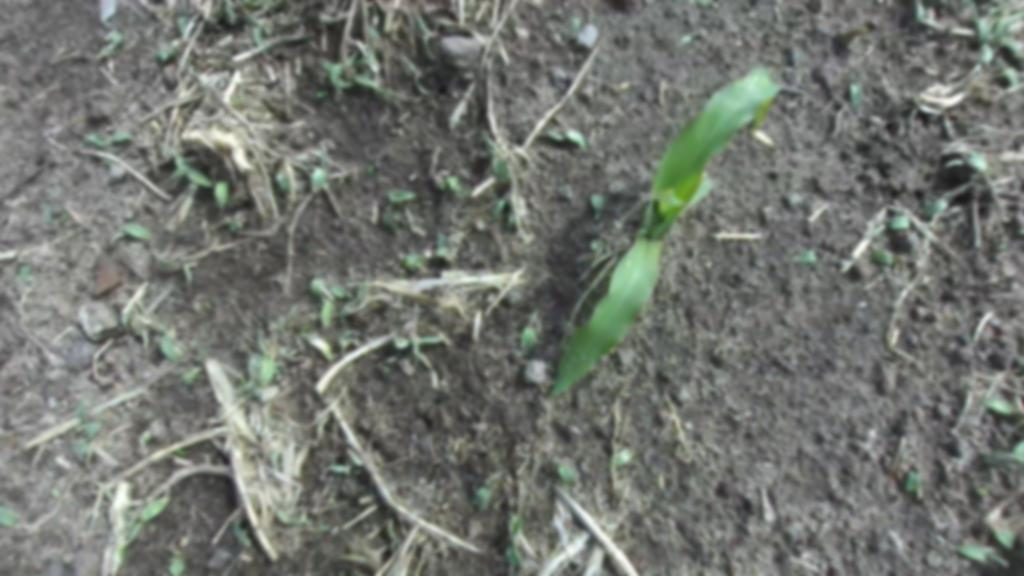BroWeed: (117, 488, 175, 545), (315, 38, 371, 95), (347, 66, 412, 111), (330, 528, 389, 576), (915, 179, 981, 221), (253, 326, 290, 387), (147, 309, 187, 365), (973, 513, 1024, 553), (469, 461, 506, 515), (341, 270, 382, 318), (479, 130, 514, 186), (298, 322, 342, 366), (405, 321, 453, 360), (400, 49, 435, 99), (104, 216, 156, 248), (543, 121, 594, 153), (952, 540, 1012, 567), (969, 15, 1000, 67), (240, 336, 272, 384), (271, 163, 301, 214), (971, 464, 1008, 504), (306, 145, 334, 196), (409, 15, 441, 58), (267, 299, 304, 336), (417, 349, 446, 396), (547, 453, 582, 488), (161, 136, 192, 173), (996, 49, 1024, 89), (125, 314, 155, 351), (94, 30, 127, 63), (518, 306, 539, 356), (169, 165, 214, 188), (356, 35, 381, 76), (151, 36, 184, 67), (257, 374, 289, 405), (227, 515, 253, 553), (273, 508, 320, 529), (156, 259, 194, 284), (834, 23, 870, 49), (75, 415, 104, 447), (380, 516, 405, 553), (165, 535, 187, 576), (870, 213, 911, 235), (81, 130, 120, 153), (246, 16, 269, 54), (442, 171, 470, 202), (431, 10, 463, 37), (173, 364, 207, 389), (326, 279, 356, 307), (316, 459, 352, 482), (377, 205, 401, 238), (277, 339, 304, 368), (871, 248, 910, 268), (401, 248, 427, 277), (490, 188, 511, 223), (382, 185, 418, 205), (501, 540, 523, 572), (396, 355, 421, 383), (944, 154, 987, 170), (270, 11, 306, 30), (91, 325, 126, 344), (244, 355, 259, 399), (374, 350, 399, 376), (506, 513, 525, 545), (381, 91, 408, 113), (434, 231, 452, 264), (68, 440, 105, 456), (224, 89, 247, 114), (352, 55, 375, 80), (0, 504, 22, 530), (611, 445, 637, 467), (333, 303, 355, 329), (308, 269, 327, 299), (188, 343, 211, 367), (885, 197, 914, 216), (215, 213, 245, 231), (343, 445, 365, 469), (188, 289, 208, 314), (140, 517, 161, 540), (213, 180, 229, 209), (394, 332, 418, 351), (996, 38, 1024, 54), (589, 192, 604, 221), (334, 333, 351, 358), (410, 528, 430, 549), (450, 434, 469, 456), (791, 249, 817, 265), (119, 305, 132, 336), (905, 468, 921, 493), (321, 296, 333, 329), (135, 428, 152, 451), (105, 128, 135, 141), (319, 11, 349, 24), (368, 14, 380, 46), (298, 353, 317, 373), (248, 381, 266, 402), (74, 394, 87, 423), (972, 475, 994, 492), (848, 83, 862, 108), (38, 202, 53, 225), (588, 235, 607, 253), (16, 262, 33, 282), (335, 77, 357, 92), (269, 448, 282, 473), (504, 209, 518, 232), (618, 76, 636, 92), (971, 483, 990, 498), (344, 66, 361, 82), (104, 21, 119, 39), (402, 260, 420, 275), (1010, 412, 1024, 431), (338, 568, 370, 576), (262, 22, 276, 40), (570, 15, 580, 40), (417, 248, 432, 264), (177, 16, 188, 36), (102, 486, 112, 507), (392, 212, 408, 225), (313, 87, 330, 99), (344, 336, 361, 348), (396, 267, 409, 281), (116, 544, 129, 557), (201, 299, 215, 311), (300, 322, 315, 333), (468, 494, 478, 510), (341, 327, 354, 339), (438, 180, 451, 192), (174, 449, 193, 457), (965, 150, 984, 158), (366, 163, 376, 174), (275, 368, 282, 383), (1015, 355, 1024, 366), (240, 372, 247, 386), (229, 223, 237, 232), (1018, 70, 1024, 81), (60, 213, 70, 219)
Maize: (519, 46, 788, 417)
